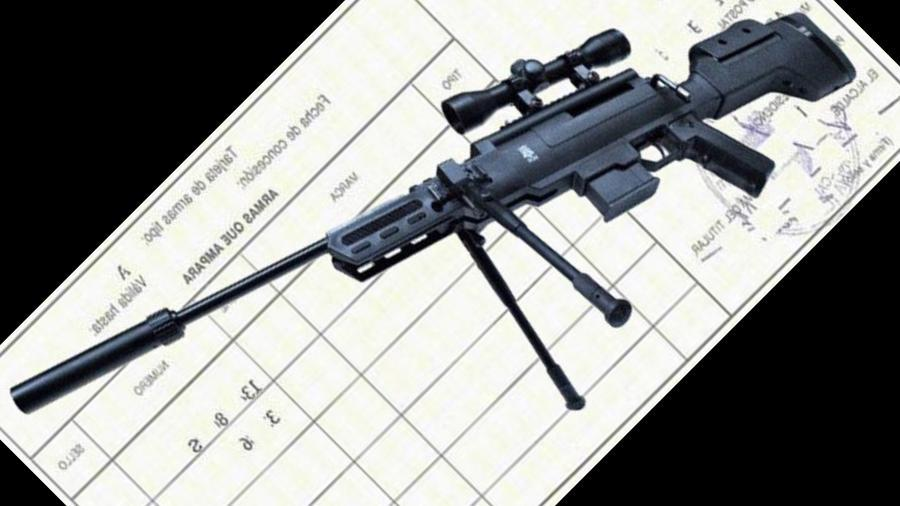larga: (10, 10, 858, 416)
